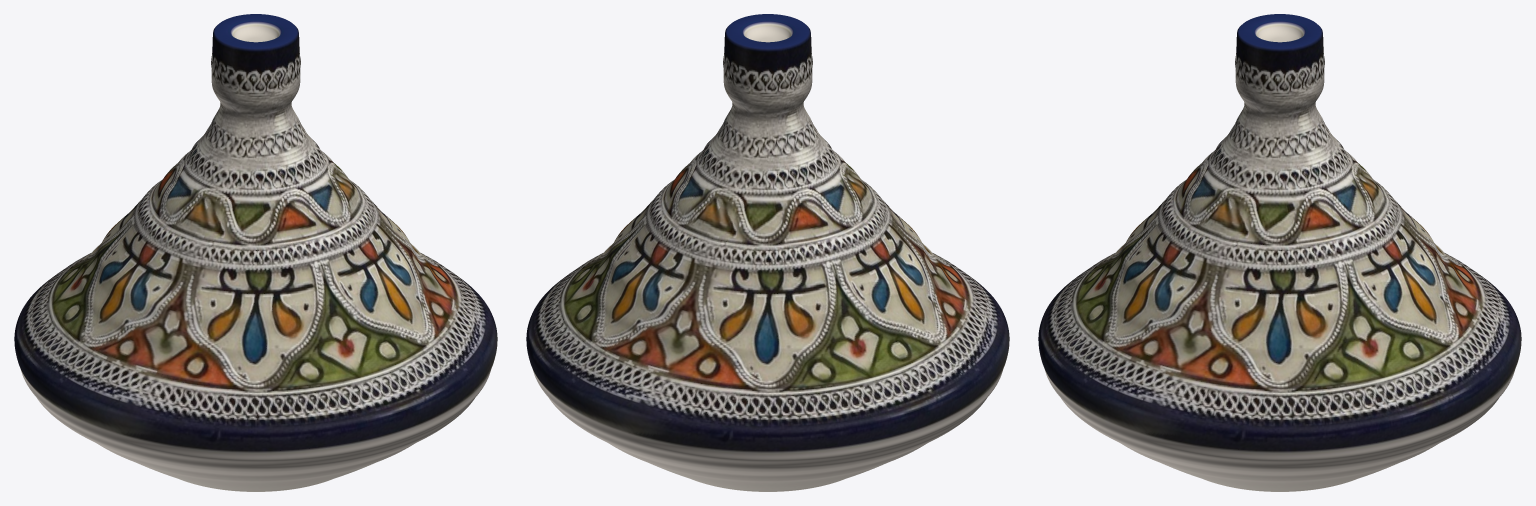
Rendered from bixala-piece.glb.
3 views of the same model, side by side, from view 1: azimuth 30°, elevation 25°; view 2: azimuth 150°, elevation 25°; view 3: azimuth 270°, elevation 25° (orthographic).
Visible parts, largest first — view 1: Bixala_Piece; view 2: Bixala_Piece; view 3: Bixala_Piece.
Boxes of the visible parts, x1,y1,x2,y2 form: Bixala_Piece: (14,14,497,491); Bixala_Piece: (526,14,1009,491); Bixala_Piece: (1038,14,1521,491).
Size of the model in its own units: 0.18 by 0.17 by 0.18.
1 material, 1 textured.
